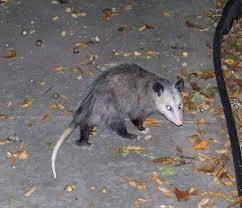opossum: (50, 62, 188, 180)
